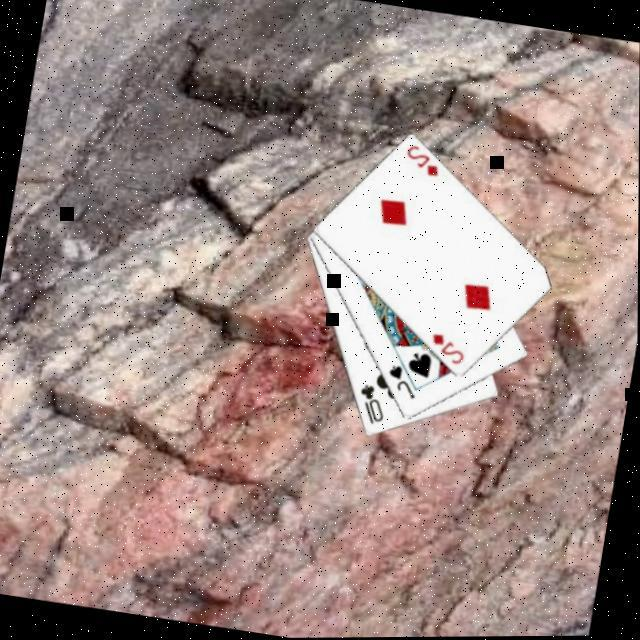10C: (353, 382, 393, 431)
2D: (401, 142, 447, 182), (427, 331, 472, 371)
JS: (383, 362, 425, 405)
